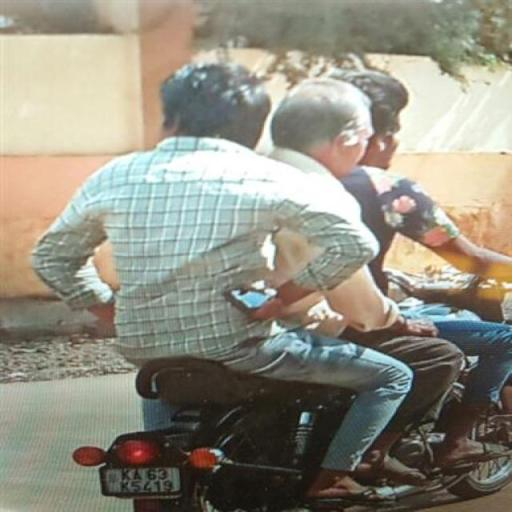tripple riding: (23, 48, 512, 374)
